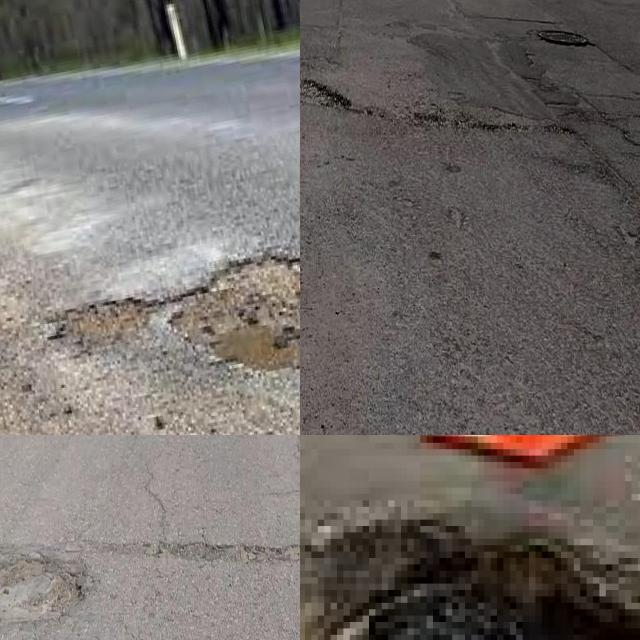Manhole: (537, 29, 589, 46)
Pothole: (326, 520, 640, 640), (169, 255, 300, 374), (0, 550, 88, 631), (62, 299, 161, 346), (300, 78, 353, 113)
